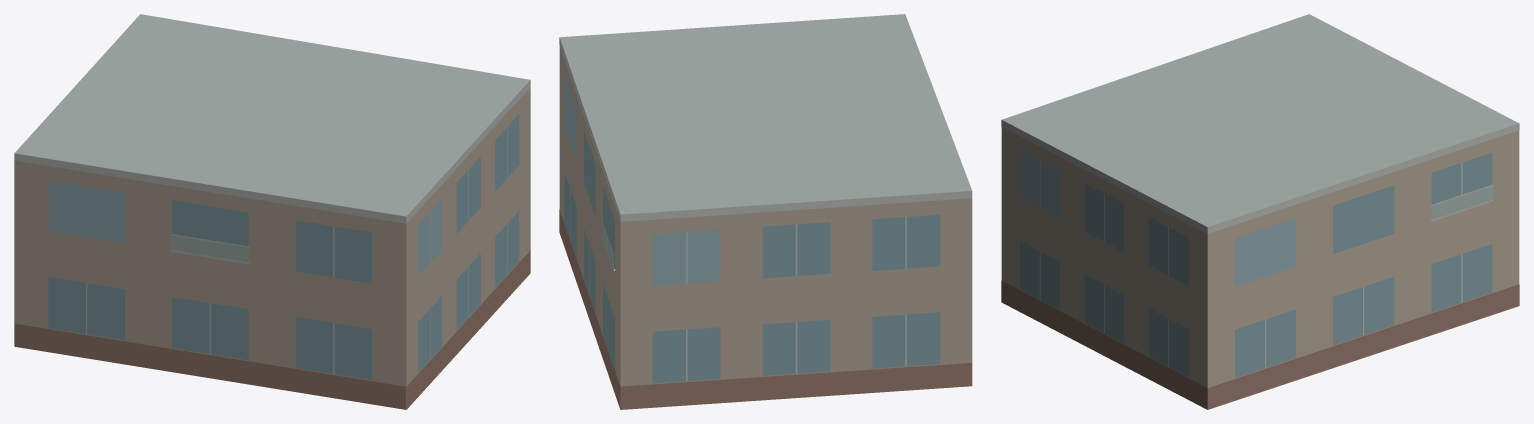
Rendered from survey-upis-32496666.glb.
3 renders of one model, left to right at view 1: azimuth 30°, elevation 25°; view 2: azimuth 150°, elevation 25°; view 3: azimuth 270°, elevation 25°, orthographic. The views are drawn at different scales.
Visible parts, largest first — view 1: survey-upis-32496666.tmp; view 2: survey-upis-32496666.tmp; view 3: survey-upis-32496666.tmp.
Boxes of the visible parts, x1=… form: survey-upis-32496666.tmp: x1=14, y1=14, x2=530, y2=409; survey-upis-32496666.tmp: x1=559, y1=14, x2=972, y2=409; survey-upis-32496666.tmp: x1=1001, y1=14, x2=1519, y2=409.
Bounding box in the file's own units: 16.41 × 6.55 × 16.84.
